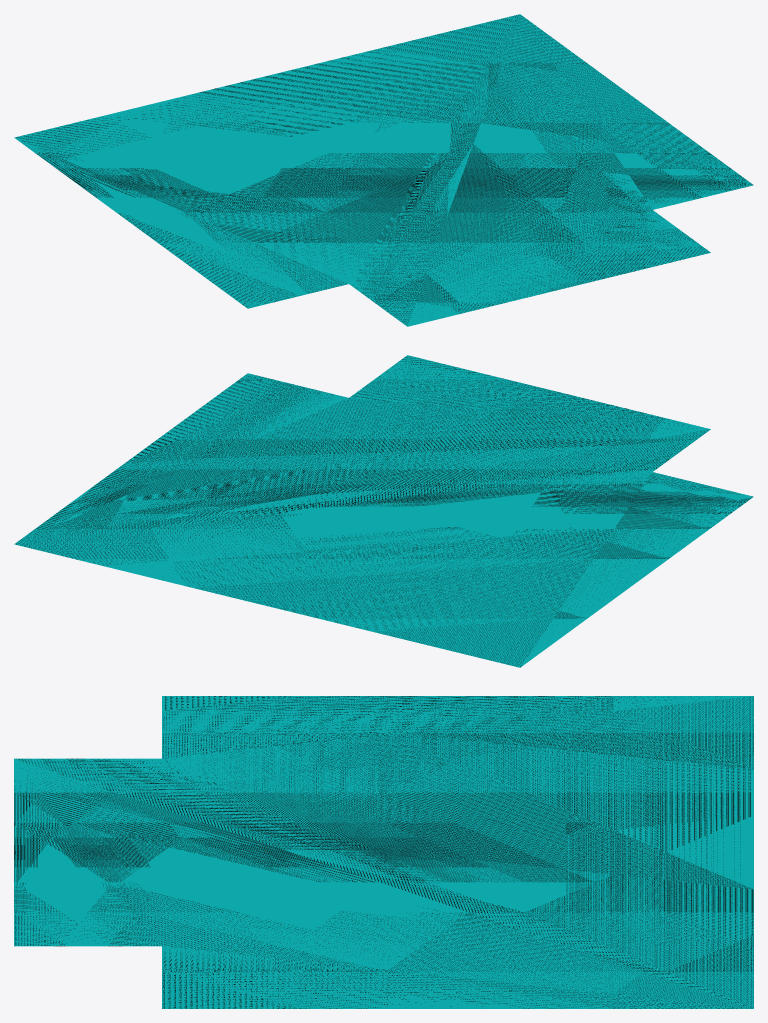
Rendered from Dungeon Floor Zelda Prison.fbx.
3 renders of one model, top to bottom at view 1: azimuth 30°, elevation 25°; view 2: azimuth 150°, elevation 25°; view 3: azimuth 270°, elevation 25°, orthographic. The views are drawn at different scales.
Visible parts, largest first — view 1: group_0.001; view 2: group_0.001; view 3: group_0.001.
Part boxes in pixels (bbox=[...]): group_0.001: bbox=[14, 14, 753, 326]; group_0.001: bbox=[14, 355, 753, 667]; group_0.001: bbox=[14, 696, 753, 1008].
Size of what is drawn, in the model's own units: 500 by 8.15e-05 by 500.
